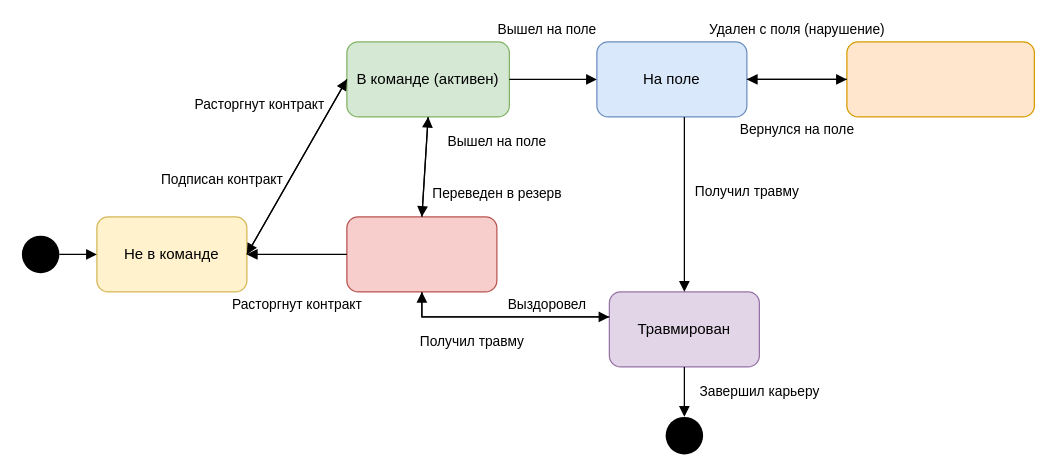
This 1056x476 diagram has some shape labels left out. Each missing label, with the centre of its shape:
"В резерве" goes at point 421,254.
"На скамейке штрафников" goes at point 940,79.
